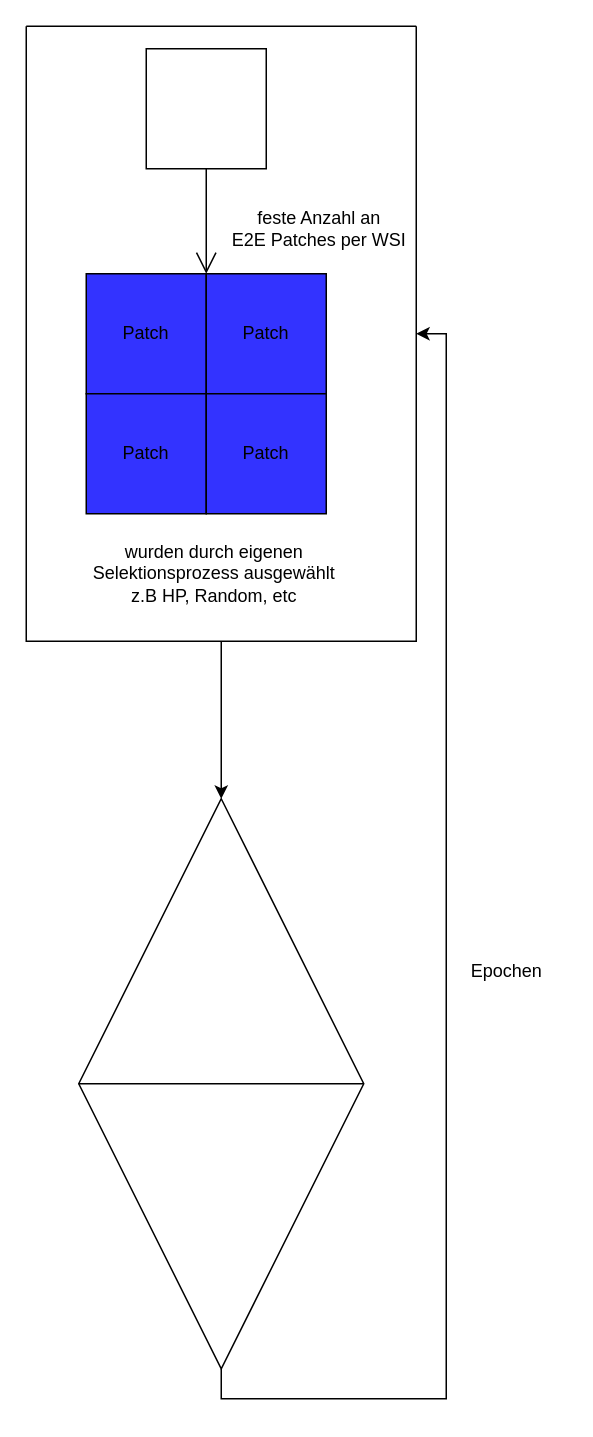
The diagram is 593 pixels wide and 1437 high, and some of its shapes have lost their labels. Here are the shapes that lost their labels. From the top down, the box of each, then its label:
(145, 47, 266, 169): WSI
(77, 797, 364, 1369): Netzwerk
